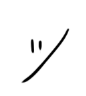tsu: (18, 23, 72, 86)
